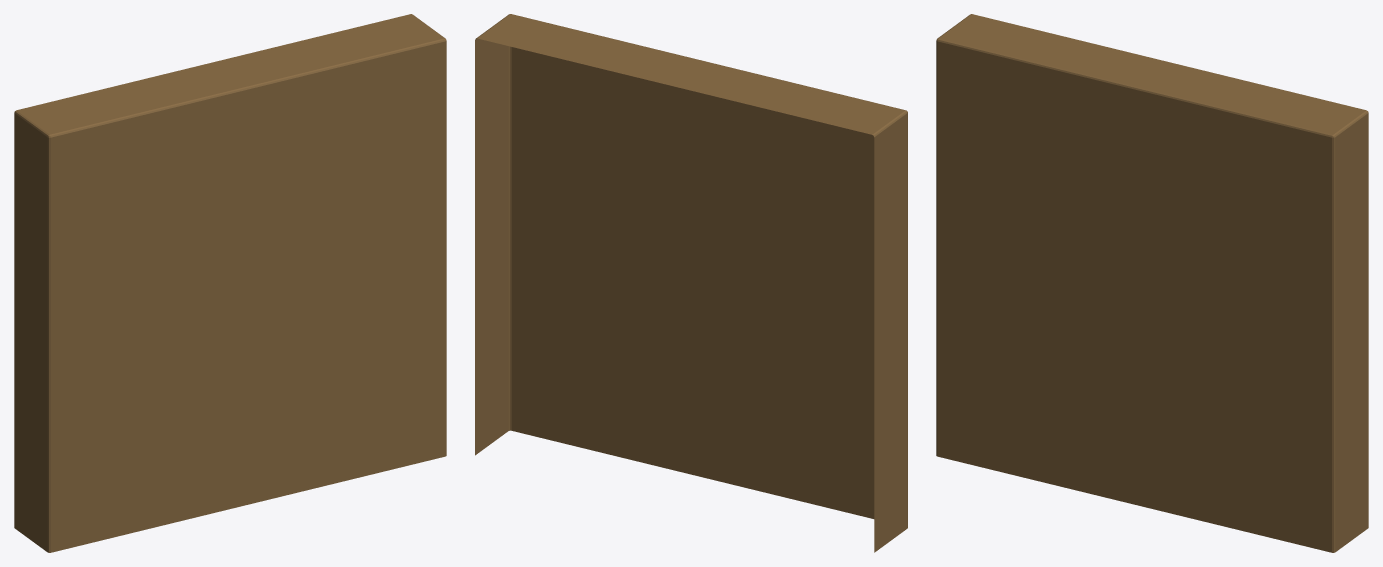
File: Door.fbx
The picture shows the model from 3 angles, left to right: view 1: azimuth 30°, elevation 25°; view 2: azimuth 150°, elevation 25°; view 3: azimuth 330°, elevation 25°; orthographic projection.
Visible parts, largest first — view 1: Door; view 2: Door; view 3: Door.
Part boxes in pixels (<box>): Door: <box>14,14,446,552</box>; Door: <box>475,14,907,552</box>; Door: <box>936,14,1368,552</box>.
Size of what is drawn, in the model's own units: 1 by 1 by 0.15.
